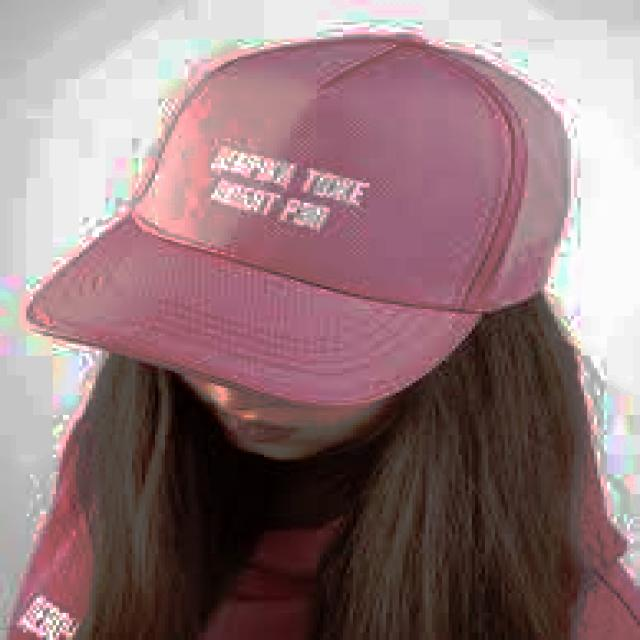TOPI: (14, 21, 610, 434)
